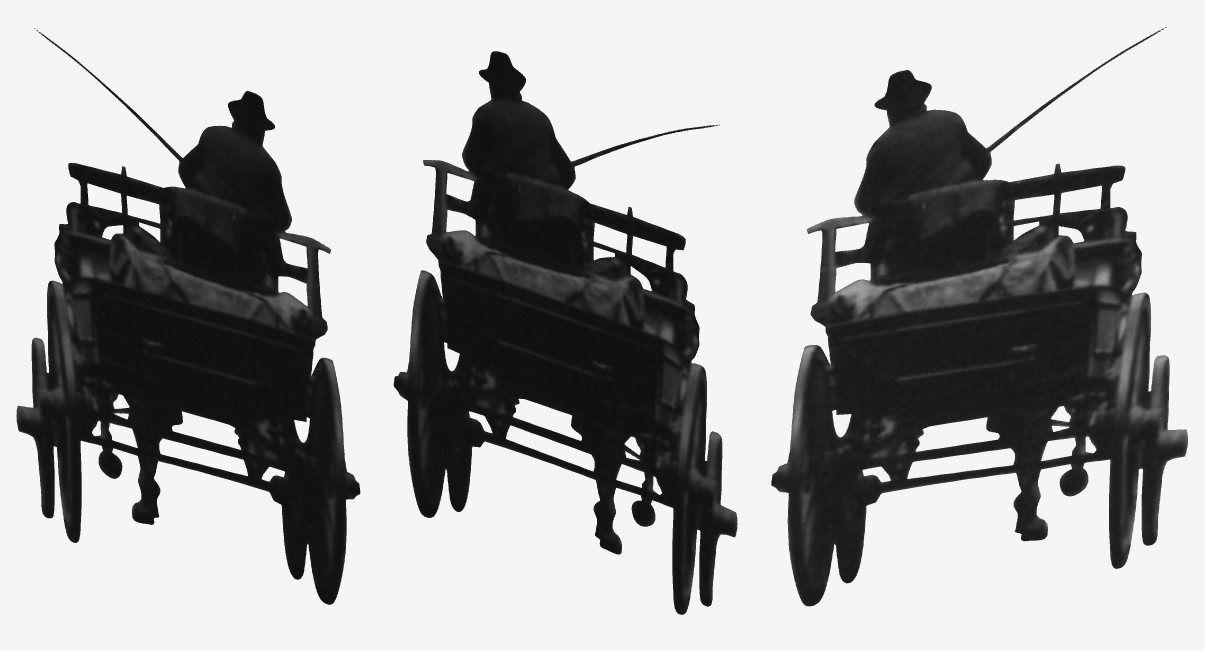
File: Old_carriageB.FBX
3 renders of one model, left to right at view 1: azimuth 30°, elevation 25°; view 2: azimuth 210°, elevation 25°; view 3: azimuth 270°, elevation 25°, orthographic. The views are drawn at different scales.
Visible parts, largest first — view 1: carriageB; view 2: carriageB; view 3: carriageB.
Part boxes in pixels (box(x1,y1,x2,y2)): carriageB: box(16, 28, 360, 604); carriageB: box(393, 51, 737, 614); carriageB: box(771, 27, 1187, 606).
Size of the model in its own units: 99.34 by 326 by 229.
1 material, 1 textured.
